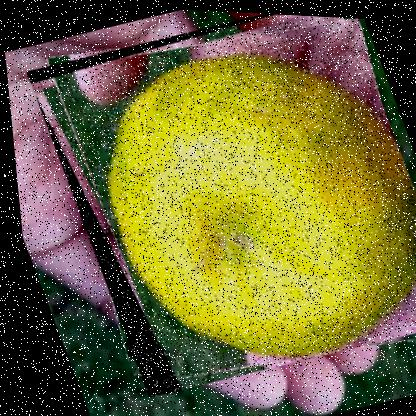orange: (18, 0, 415, 410)
